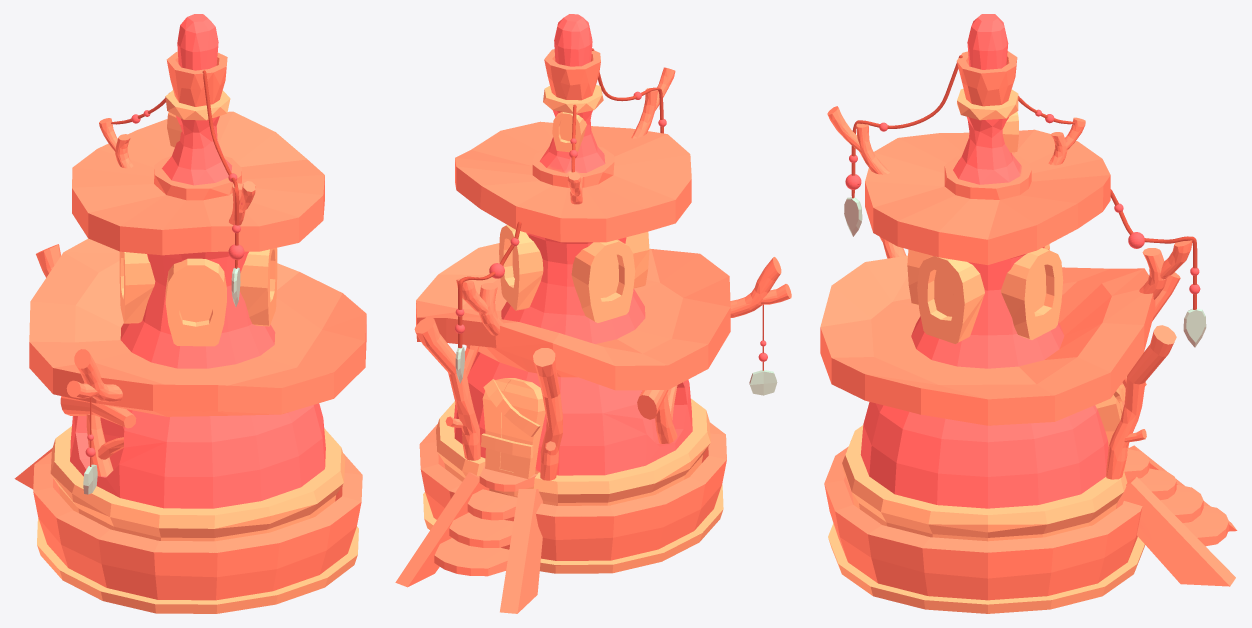
Rendered from fantasy_house.glb.
3 views of the same model, side by side, from view 1: azimuth 30°, elevation 25°; view 2: azimuth 150°, elevation 25°; view 3: azimuth 270°, elevation 25° (orthographic). The views are drawn at different scales.
Visible parts, largest first — view 1: Plane; view 2: Plane; view 3: Plane.
Part boxes in pixels (x1,y1,x2,y2): Plane: (14,14,366,613); Plane: (395,14,791,613); Plane: (820,14,1237,613).
Bounding box in the file's own units: 8.87 × 13.94 × 9.82.
Materials: 1 (1 with a texture image).
